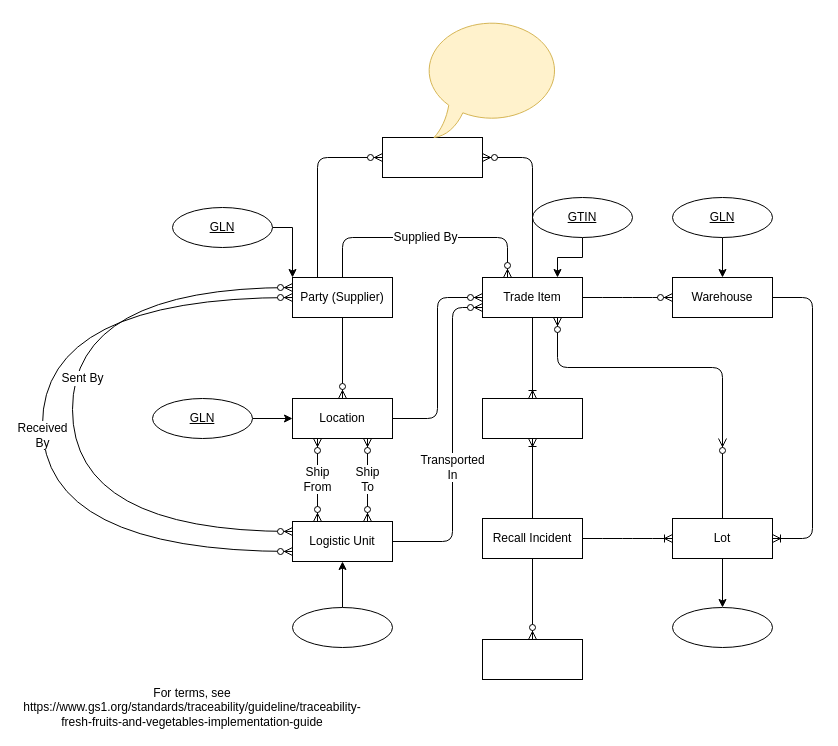
Image size: 838x746. Some labels were removed from this diagram. Here are the shapes that lost their labels. From the top down, the centre of each, then its label:
At (x=492, y=77): "Track item movements between parties (suppliers, transporters, etc.)".
At (x=432, y=157): "Trade Item Tracking".
At (x=532, y=418): "Recall Item".
At (x=342, y=627): "SSCC".
At (x=722, y=627): "Lot Number".
At (x=532, y=659): "Notifications".
